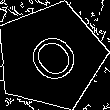O_SE: (16, 23, 85, 90)
